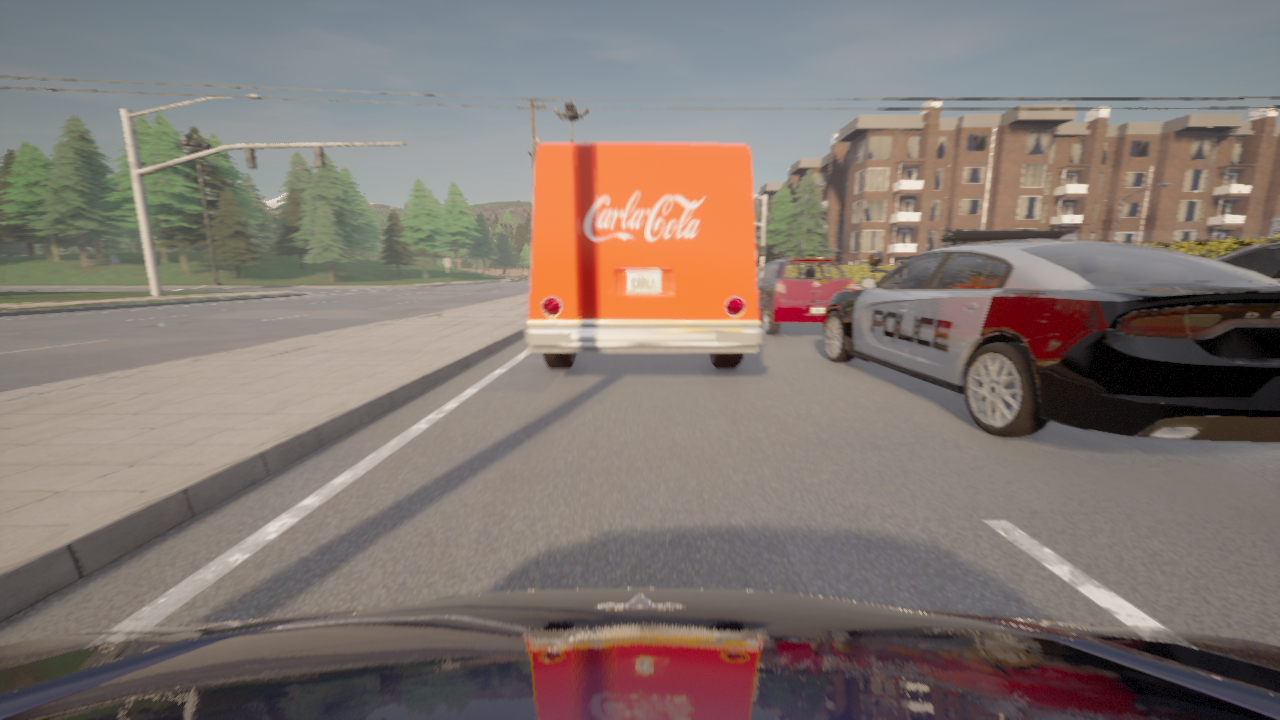cyclist: (0, 588, 1279, 719), (823, 228, 1279, 441), (524, 142, 765, 367), (757, 258, 855, 334), (1212, 238, 1279, 281)
